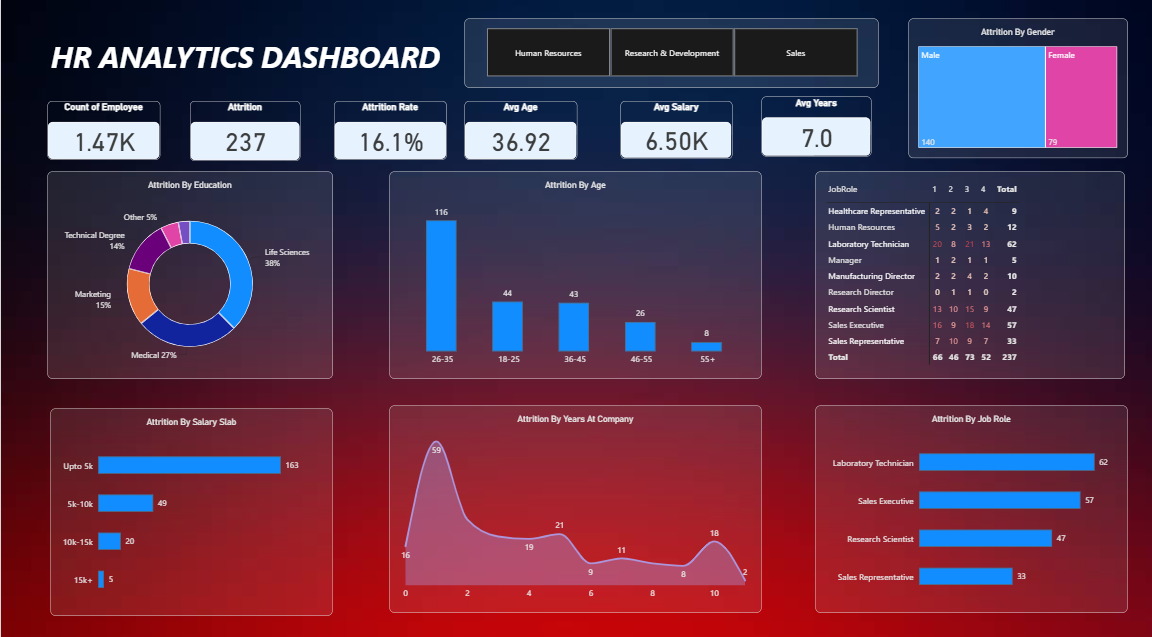

The page's visual inventory and layout, read from the dashboard file:
{"tool":"powerbi","page":{"name":"Page 1","canvas":[1920,1080],"ordinal":0},"visuals":[{"type":"cardVisual","title":"Count of Employee","fields":{"Data":["CountNonNull(HR_Analytics.EmpID)"]},"box":[78.3,170,188,98],"z":0},{"type":"cardVisual","title":"Attrition","fields":{"Data":["Sum(HR_Analytics.AttritionCount)"]},"box":[315,170,184,100],"z":1},{"type":"cardVisual","title":"Attrition Rate","fields":{"Data":["HR_Analytics.AttritionRate"]},"box":[555,170,188,98],"z":2},{"type":"cardVisual","title":"Avg Age","fields":{"Data":["Avg(HR_Analytics.Age)"]},"box":[771.7,170,188,98],"z":3},{"type":"cardVisual","title":"Avg Salary","fields":{"Data":["Avg(HR_Analytics.MonthlyIncome)"]},"box":[1031.7,170,186.7,96.7],"z":4},{"type":"cardVisual","title":"Avg Years","fields":{"Data":["Avg(HR_Analytics.YearsAtCompany)"]},"box":[1268.3,163.3,183.3,100],"z":5},{"type":"donutChart","title":"Attrition By Education","fields":{"Category":["HR_Analytics.EducationField"],"Y":["Sum(HR_Analytics.AttritionCount)"]},"box":[76.7,286.7,475,345],"z":6},{"type":"columnChart","title":"Attrition By Age","fields":{"Category":["HR_Analytics.AgeGroup"],"Y":["Sum(HR_Analytics.AttritionCount)"]},"box":[646.7,286.7,620,345],"z":7},{"type":"pivotTable","fields":{"Columns":["HR_Analytics.JobSatisfaction"],"Rows":["HR_Analytics.JobRole"],"Values":["Sum(HR_Analytics.AttritionCount)"]},"box":[1356.7,286.7,515,345],"z":8},{"type":"barChart","title":"Attrition By Salary Slab","fields":{"Category":["HR_Analytics.SalarySlab"],"Y":["Sum(HR_Analytics.AttritionCount)"]},"box":[81.7,681.7,470,345],"z":9},{"type":"barChart","title":"Attrition By Job Role","fields":{"Category":["HR_Analytics.JobRole"],"Y":["Sum(HR_Analytics.AttritionCount)"]},"box":[1356.7,676.7,520,345],"z":10},{"type":"areaChart","title":"Attrition By Years At Company","fields":{"Category":["HR_Analytics.YearsAtCompany"],"Y":["Sum(HR_Analytics.AttritionCount)"]},"box":[646.7,676.7,620,345],"z":11},{"type":"treemap","title":"Attrition By Gender","fields":{"Group":["HR_Analytics.Gender"],"Values":["Sum(HR_Analytics.AttritionCount)"]},"box":[1512.5,32.5,365,232.5],"z":12},{"type":"slicer","fields":{"Values":["HR_Analytics.Department"]},"box":[772.5,32.5,690,115],"z":13},{"type":"textbox","box":[75,62.5,665,85],"z":14}]}

Visuals, with their boxes in screenshot pixels (x1, y1, x2, y2), scaled from the page's 1920x1080 canvas onto the 1152x637 screenshot:
"Count of Employee" cardVisual: {"left": 47, "top": 100, "right": 160, "bottom": 158}
"Attrition" cardVisual: {"left": 189, "top": 100, "right": 299, "bottom": 159}
"Attrition Rate" cardVisual: {"left": 333, "top": 100, "right": 446, "bottom": 158}
"Avg Age" cardVisual: {"left": 463, "top": 100, "right": 576, "bottom": 158}
"Avg Salary" cardVisual: {"left": 619, "top": 100, "right": 731, "bottom": 157}
"Avg Years" cardVisual: {"left": 761, "top": 96, "right": 871, "bottom": 155}
"Attrition By Education" donutChart: {"left": 46, "top": 169, "right": 331, "bottom": 373}
"Attrition By Age" columnChart: {"left": 388, "top": 169, "right": 760, "bottom": 373}
pivotTable - HR_Analytics.JobSatisfaction x HR_Analytics.JobRole: {"left": 814, "top": 169, "right": 1123, "bottom": 373}
"Attrition By Salary Slab" barChart: {"left": 49, "top": 402, "right": 331, "bottom": 606}
"Attrition By Job Role" barChart: {"left": 814, "top": 399, "right": 1126, "bottom": 603}
"Attrition By Years At Company" areaChart: {"left": 388, "top": 399, "right": 760, "bottom": 603}
"Attrition By Gender" treemap: {"left": 908, "top": 19, "right": 1126, "bottom": 156}
slicer - HR_Analytics.Department: {"left": 464, "top": 19, "right": 878, "bottom": 87}
textbox: {"left": 45, "top": 37, "right": 444, "bottom": 87}
